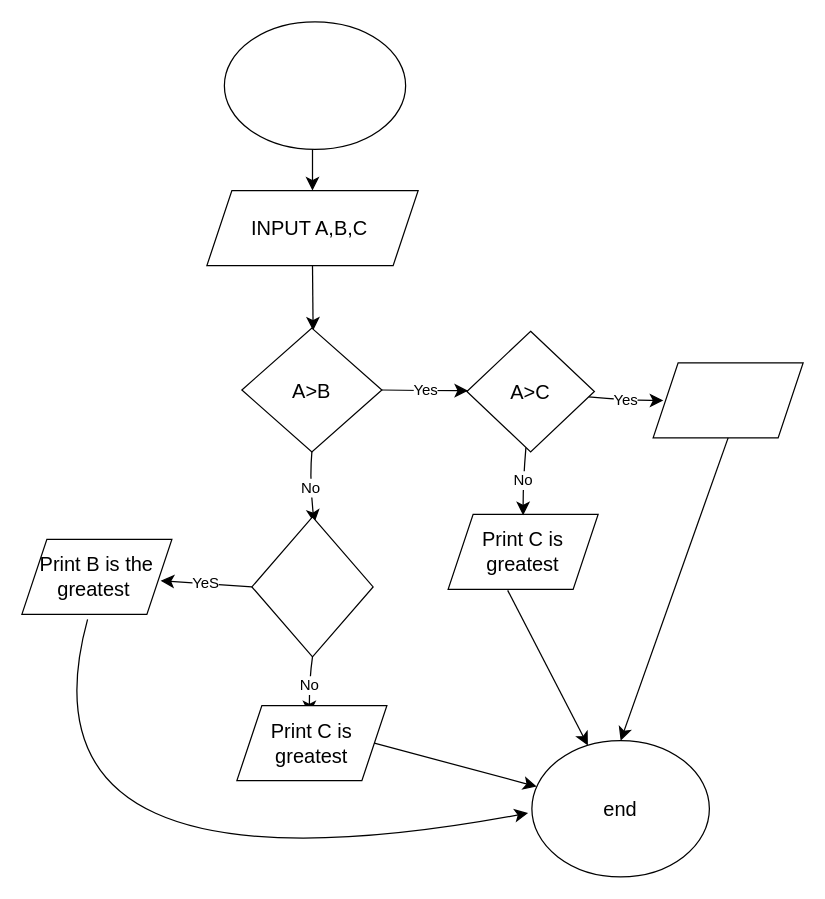
Image size: 825x899. Some labels were removed from this diagram. Each missing label, with the centre of its shape:
"B>C" belongs at point 312,586.
"Print A is the greatest" belongs at point 727,400.
"START" belongs at point 314,85.
